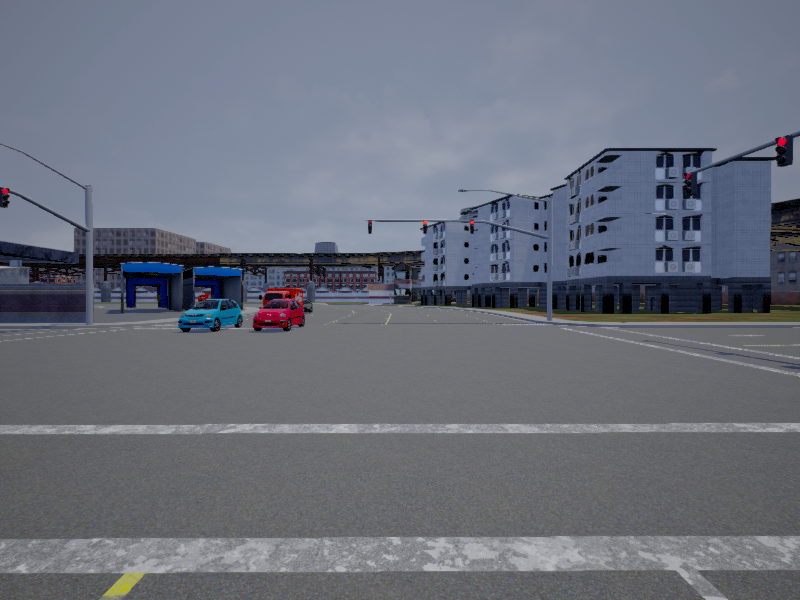Benign: (181, 299, 241, 329), (253, 301, 305, 335), (264, 289, 303, 318)
